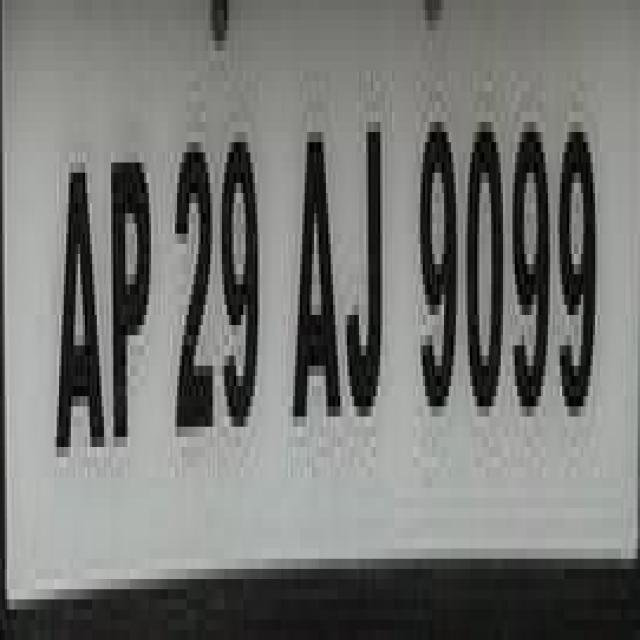license_plate: (23, 0, 640, 609)
